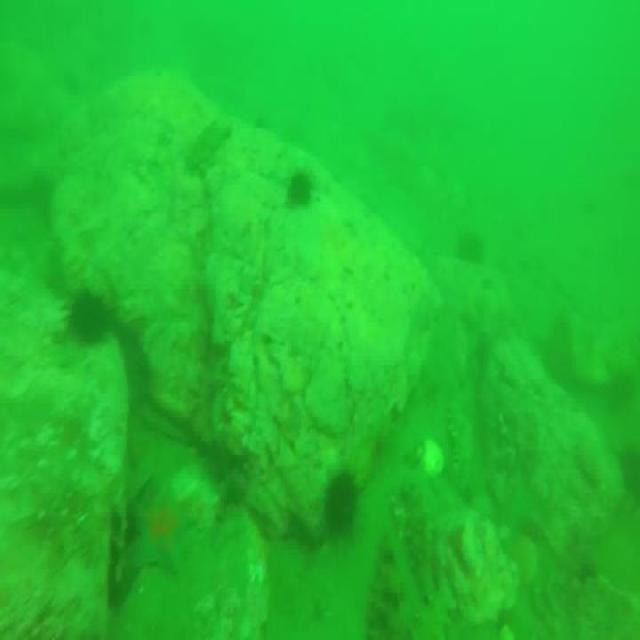echinus: (64, 280, 109, 343), (324, 476, 358, 544), (280, 169, 315, 213), (458, 232, 488, 267)
holothurian: (364, 539, 407, 640), (402, 487, 436, 599), (446, 403, 476, 501), (181, 117, 231, 171)
scallop: (424, 433, 444, 482)
starfish: (134, 474, 198, 578)
